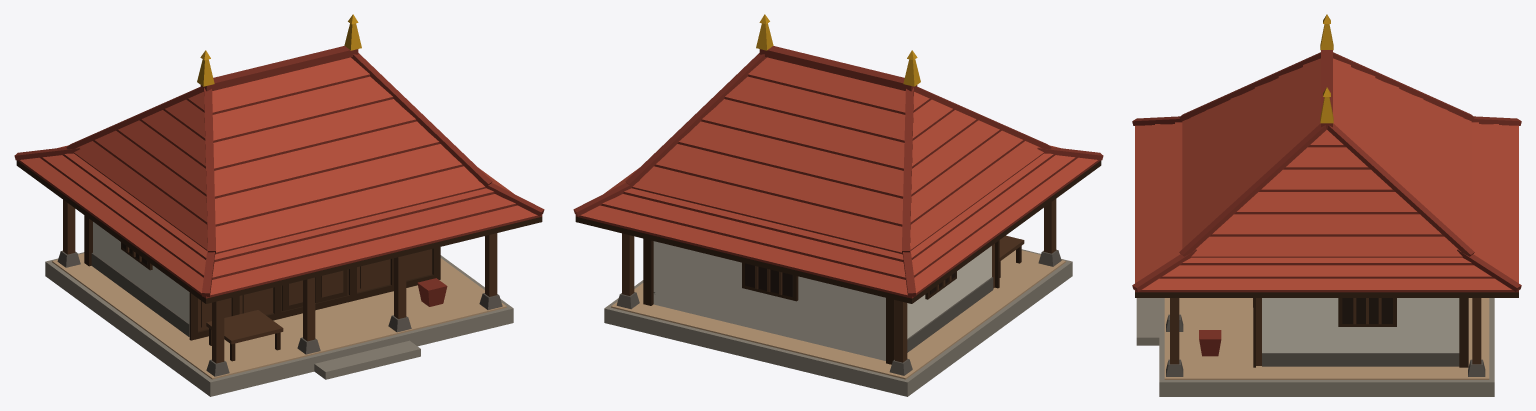
File: rumah_limasan.glb
3 renders of one model, left to right at view 1: azimuth 30°, elevation 25°; view 2: azimuth 150°, elevation 25°; view 3: azimuth 270°, elevation 25°, orthographic.
Visible parts, largest first — view 1: rumah_limasan; view 2: rumah_limasan; view 3: rumah_limasan.
Boxes of the visible parts, x1,y1,x2,y2 form: rumah_limasan: (14,14,544,396); rumah_limasan: (573,14,1103,396); rumah_limasan: (1132,14,1521,396).
Bounding box in the file's own units: 7.91 × 5.9 × 7.68.
